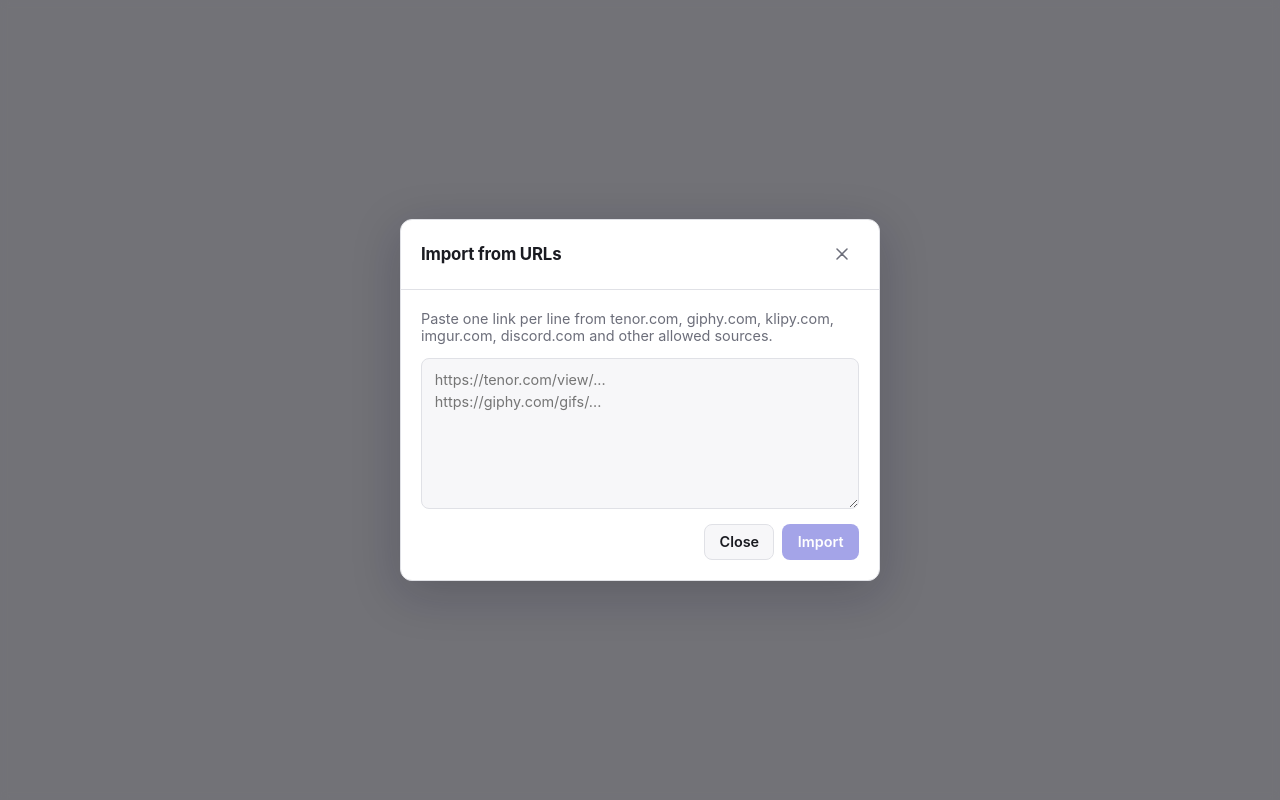
it: ImportDialog › uses the singular for a single import
Type "https://tenor.com/view/a" into the text box named "Import URLs" at (640,434), box [421,358,859,509]
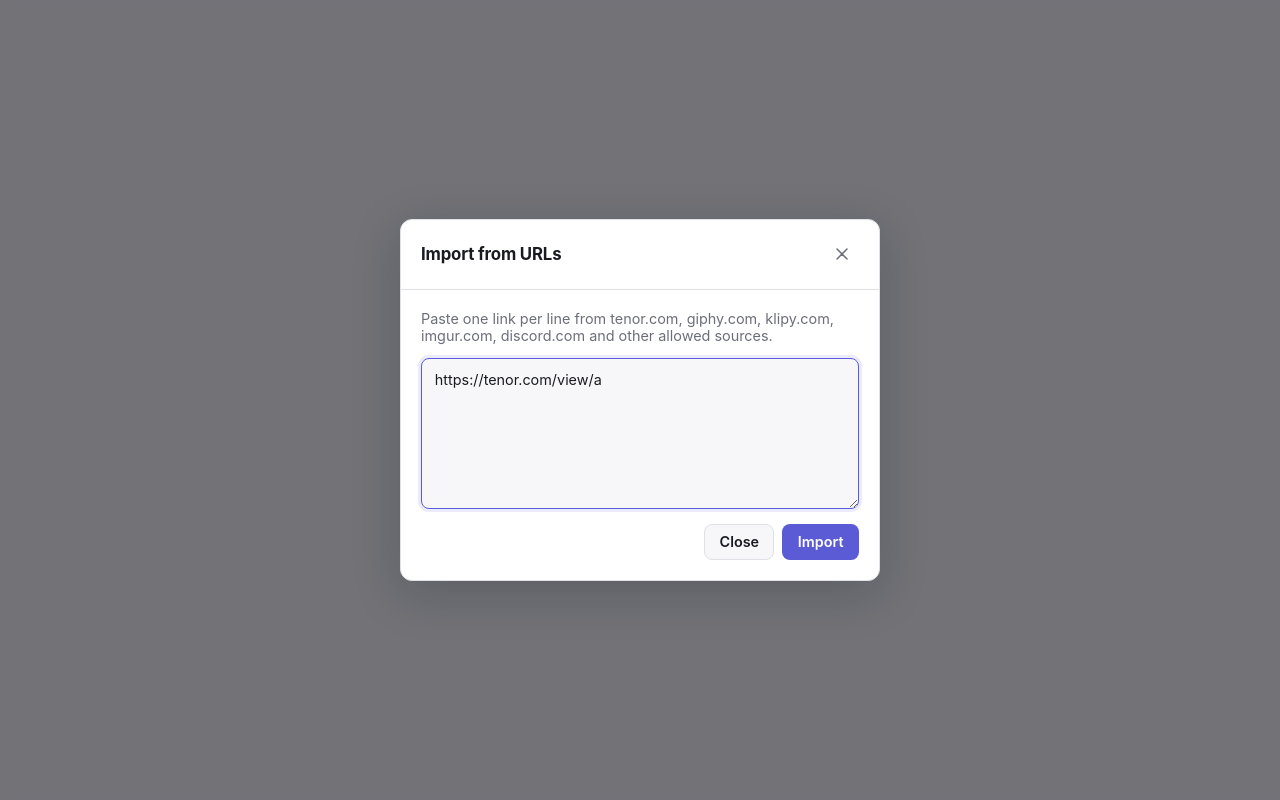
Click the button "Import" at (821,542), box [782,524,859,560]
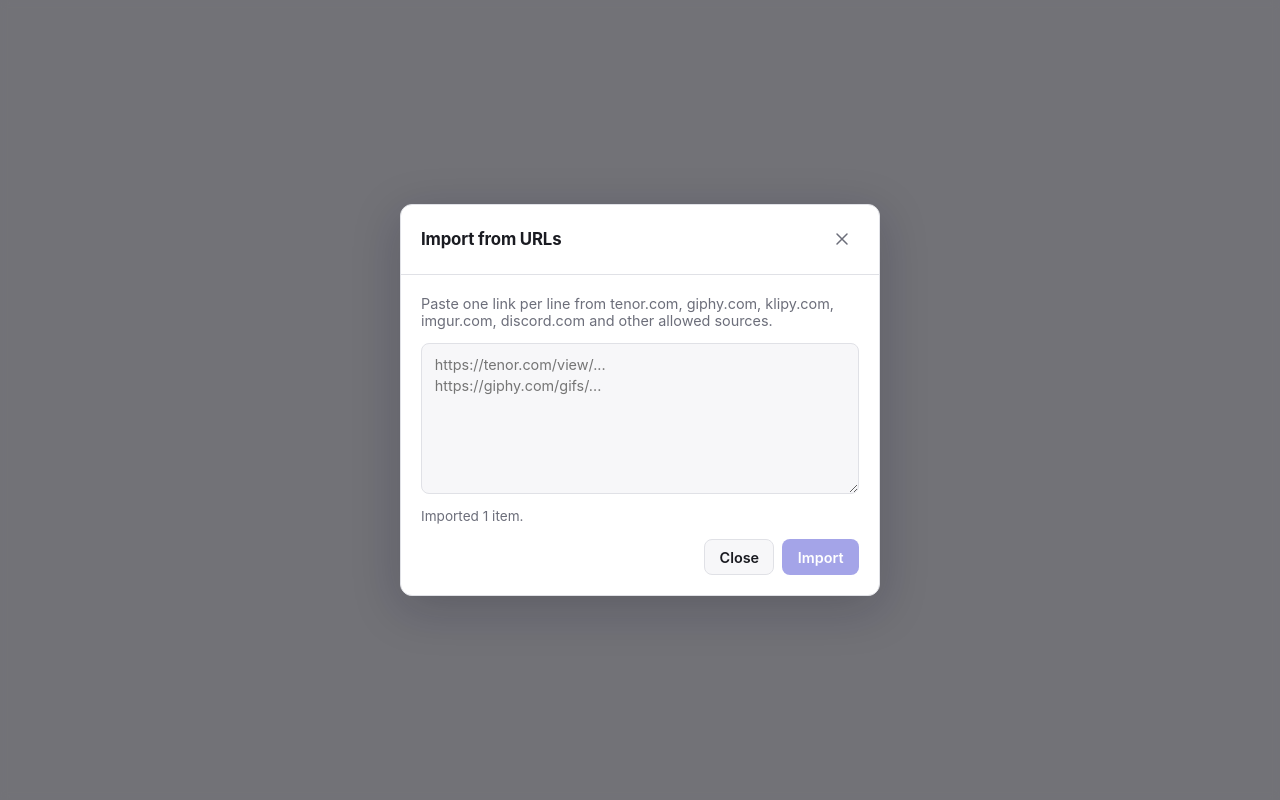
Now the text "Imported 1 item." is shown, box [421,508,524,524]
